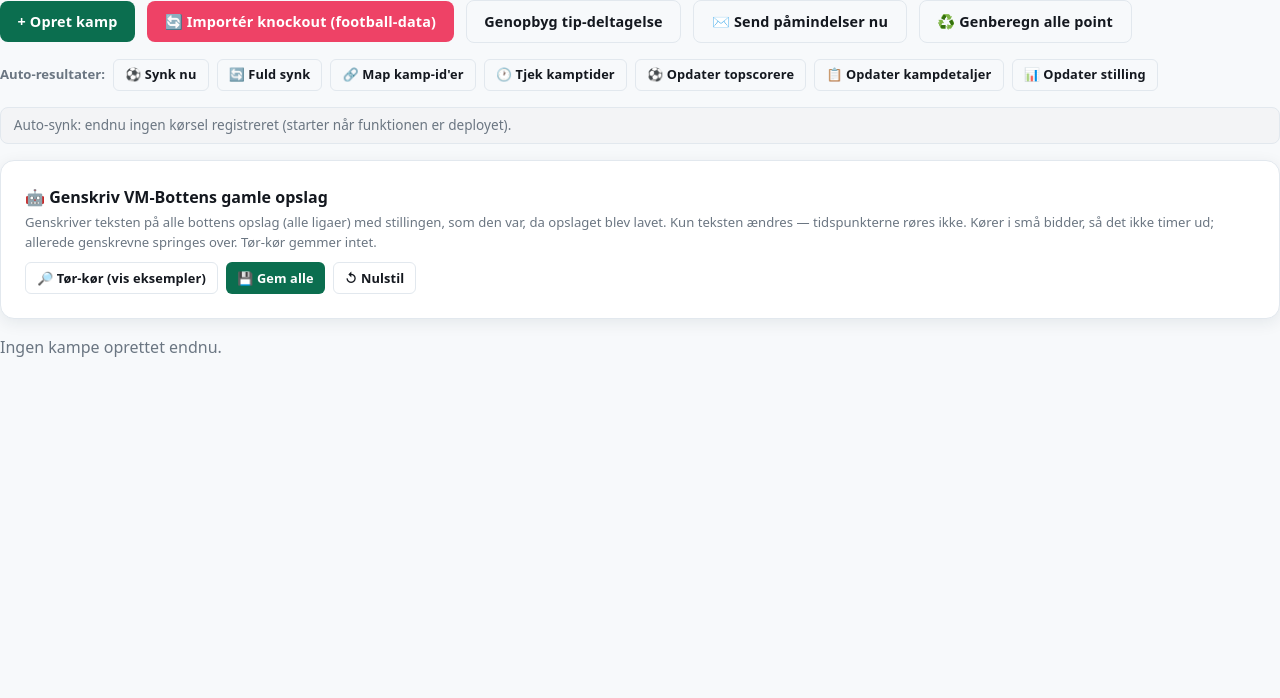
Test: MatchesTab › åbner opret-formular ved klik på + Opret kamp
The width and height of the screenshot is (1280, 698).
Click the button "+ Opret kamp". click: (68, 21)
box: x1=0 y1=1 x2=135 y2=42
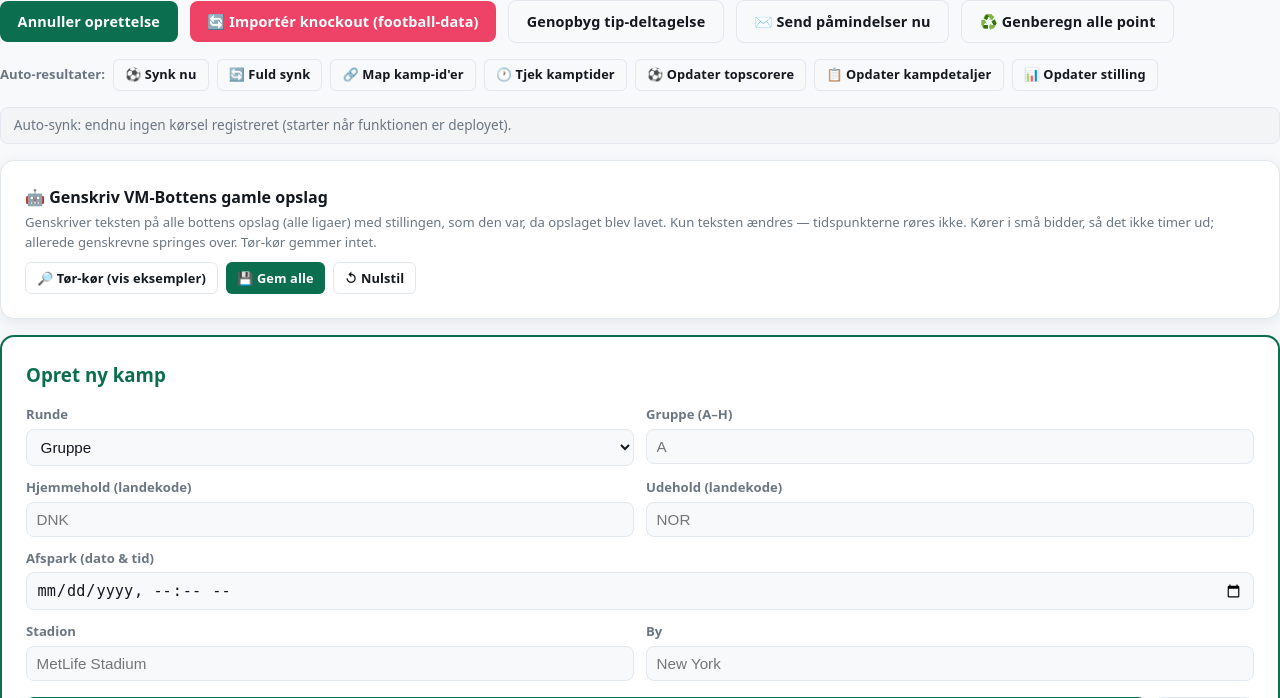
Result: the heading "Opret ny kamp" is shown at x1=26 y1=362 x2=166 y2=387
